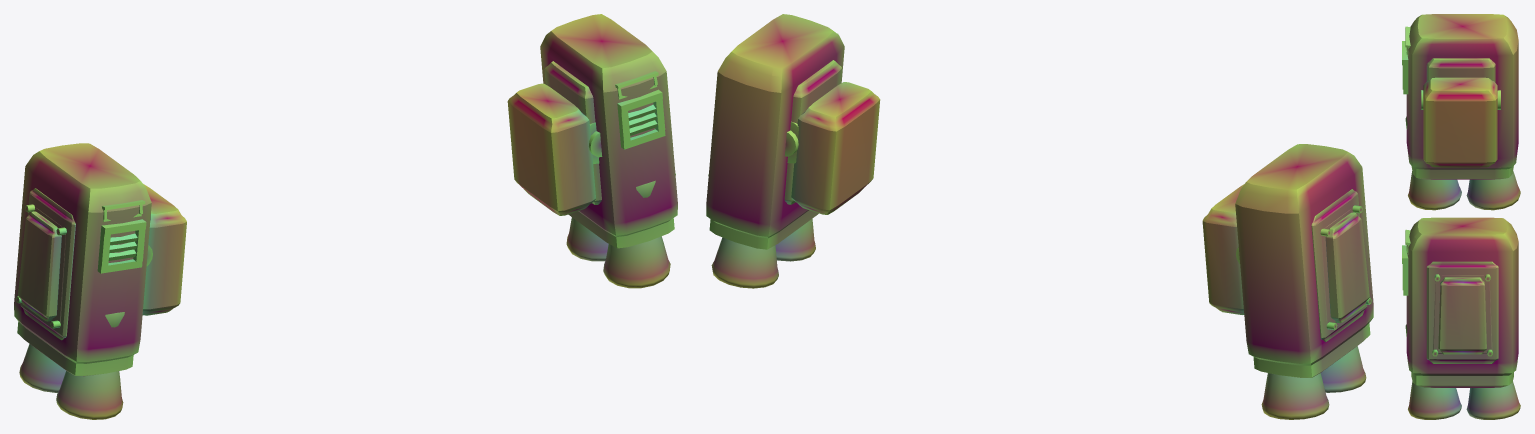
File: llm_gen_leg_thrusters_026_1509aa.glb
3 renders of one model, left to right at view 1: azimuth 30°, elevation 25°; view 2: azimuth 150°, elevation 25°; view 3: azimuth 270°, elevation 25°, orthographic. The views are drawn at different scales.
Parts seen in each view (by area): view 1: hover_cowling_armor_1_cobalt_anodized_l, hover_cowling_armor_1_cobalt_anodized_r, adapter_calf_clamp_r, hover_flank_panel_5_adapter_dark_l, adapter_calf_clamp_l, hover_bell_fwd_7_vernier_bell_vernier_l, hover_bell_fwd_7_vernier_bell_vernier_r, adapter_sub_hover_flank_dark_4_adapter_dark_l, hover_core_mount_0_adapter_dark_r, adapter_sub_hover_manifold_dark_6_adapter_dark_l, adapter_sub_hover_intake_grille_2_dark_r, adapter_sub_hover_intake_grille_2_dark_l (+5 smaller); view 2: hover_cowling_armor_1_cobalt_anodized_l, hover_cowling_armor_1_cobalt_anodized_r, adapter_calf_clamp_r, hover_flank_panel_5_adapter_dark_l, adapter_calf_clamp_l, hover_bell_aft_8_vernier_bell_vernier_l, hover_bell_aft_8_vernier_bell_vernier_r, adapter_sub_hover_flank_dark_4_adapter_dark_l, hover_core_mount_0_adapter_dark_r, adapter_sub_hover_manifold_dark_6_adapter_dark_l, hover_bell_fwd_7_vernier_bell_vernier_l, adapter_sub_hover_manifold_dark_6_adapter_dark_r (+1 smaller); view 3: hover_cowling_armor_1_cobalt_anodized_r, hover_cowling_armor_1_cobalt_anodized_l, adapter_calf_clamp_l, hover_flank_panel_5_adapter_dark_r, adapter_sub_hover_flank_dark_4_adapter_dark_r, hover_bell_aft_8_vernier_bell_vernier_r, hover_bell_fwd_7_vernier_bell_vernier_r, hover_bell_aft_8_vernier_bell_vernier_l, hover_bell_fwd_7_vernier_bell_vernier_l, hover_core_mount_0_adapter_dark_l, adapter_sub_hover_manifold_dark_6_adapter_dark_r, adapter_sub_hover_manifold_dark_6_adapter_dark_l (+4 smaller).
Boxes of the visible parts, x1,y1,x2,y2 form: hover_cowling_armor_1_cobalt_anodized_l: [14, 143, 151, 363]; hover_cowling_armor_1_cobalt_anodized_r: [540, 14, 677, 236]; adapter_calf_clamp_r: [507, 83, 599, 215]; hover_flank_panel_5_adapter_dark_l: [16, 204, 66, 328]; adapter_calf_clamp_l: [142, 184, 186, 315]; hover_bell_fwd_7_vernier_bell_vernier_l: [56, 371, 123, 419]; hover_bell_fwd_7_vernier_bell_vernier_r: [603, 236, 670, 288]; adapter_sub_hover_flank_dark_4_adapter_dark_l: [20, 188, 75, 340]; hover_core_mount_0_adapter_dark_r: [544, 61, 601, 204]; adapter_sub_hover_manifold_dark_6_adapter_dark_l: [17, 321, 133, 376]; adapter_sub_hover_intake_grille_2_dark_r: [617, 89, 665, 149]; adapter_sub_hover_intake_grille_2_dark_l: [97, 219, 146, 273]; hover_cowling_armor_1_cobalt_anodized_l: [1235, 144, 1373, 365]; hover_cowling_armor_1_cobalt_anodized_r: [706, 14, 844, 238]; adapter_calf_clamp_r: [787, 82, 880, 214]; hover_flank_panel_5_adapter_dark_l: [1320, 205, 1371, 330]; adapter_calf_clamp_l: [1202, 184, 1244, 314]; hover_bell_aft_8_vernier_bell_vernier_l: [1261, 373, 1329, 419]; hover_bell_aft_8_vernier_bell_vernier_r: [711, 237, 778, 288]; adapter_sub_hover_flank_dark_4_adapter_dark_l: [1311, 189, 1367, 341]; hover_core_mount_0_adapter_dark_r: [784, 60, 842, 204]; adapter_sub_hover_manifold_dark_6_adapter_dark_l: [1253, 323, 1370, 377]; hover_bell_fwd_7_vernier_bell_vernier_l: [1321, 346, 1366, 392]; adapter_sub_hover_manifold_dark_6_adapter_dark_r: [709, 210, 818, 249]; hover_cowling_armor_1_cobalt_anodized_r: [1406, 217, 1518, 375]; hover_cowling_armor_1_cobalt_anodized_l: [1406, 14, 1518, 169]; adapter_calf_clamp_l: [1423, 77, 1497, 167]; hover_flank_panel_5_adapter_dark_r: [1432, 274, 1492, 356]; adapter_sub_hover_flank_dark_4_adapter_dark_r: [1426, 261, 1498, 363]; hover_bell_aft_8_vernier_bell_vernier_r: [1466, 381, 1520, 419]; hover_bell_fwd_7_vernier_bell_vernier_r: [1408, 381, 1461, 419]; hover_bell_aft_8_vernier_bell_vernier_l: [1466, 170, 1520, 210]; hover_bell_fwd_7_vernier_bell_vernier_l: [1408, 171, 1461, 210]; hover_core_mount_0_adapter_dark_l: [1426, 58, 1495, 82]; adapter_sub_hover_manifold_dark_6_adapter_dark_r: [1411, 372, 1513, 387]; adapter_sub_hover_manifold_dark_6_adapter_dark_l: [1411, 166, 1513, 179].
Size of the model in its own units: 86.05 by 29.84 by 17.61.
